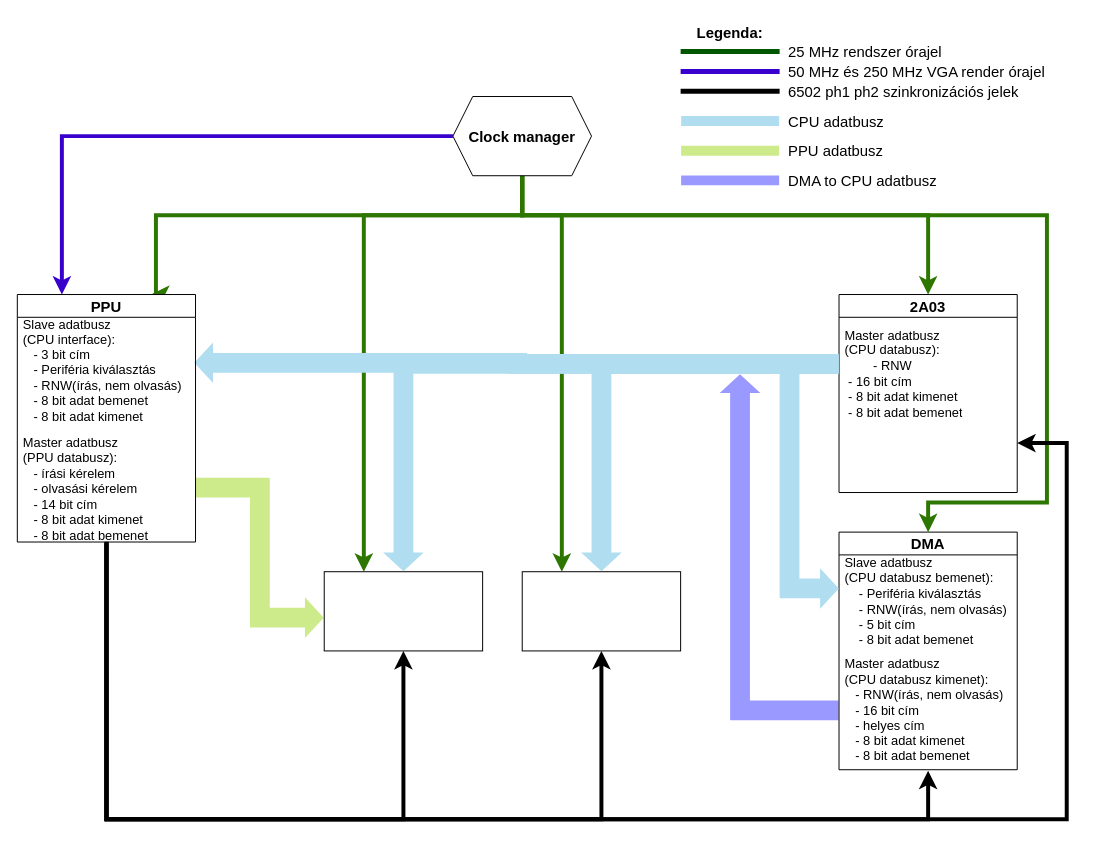
Image size: 1094x845. Some labels were removed from this diagram. The centre of each missing label's shape, as x and y in pixels:
"Memory manager" belongs at pixel 403 611.
"NES kontrollerek" belongs at pixel 601 611.
